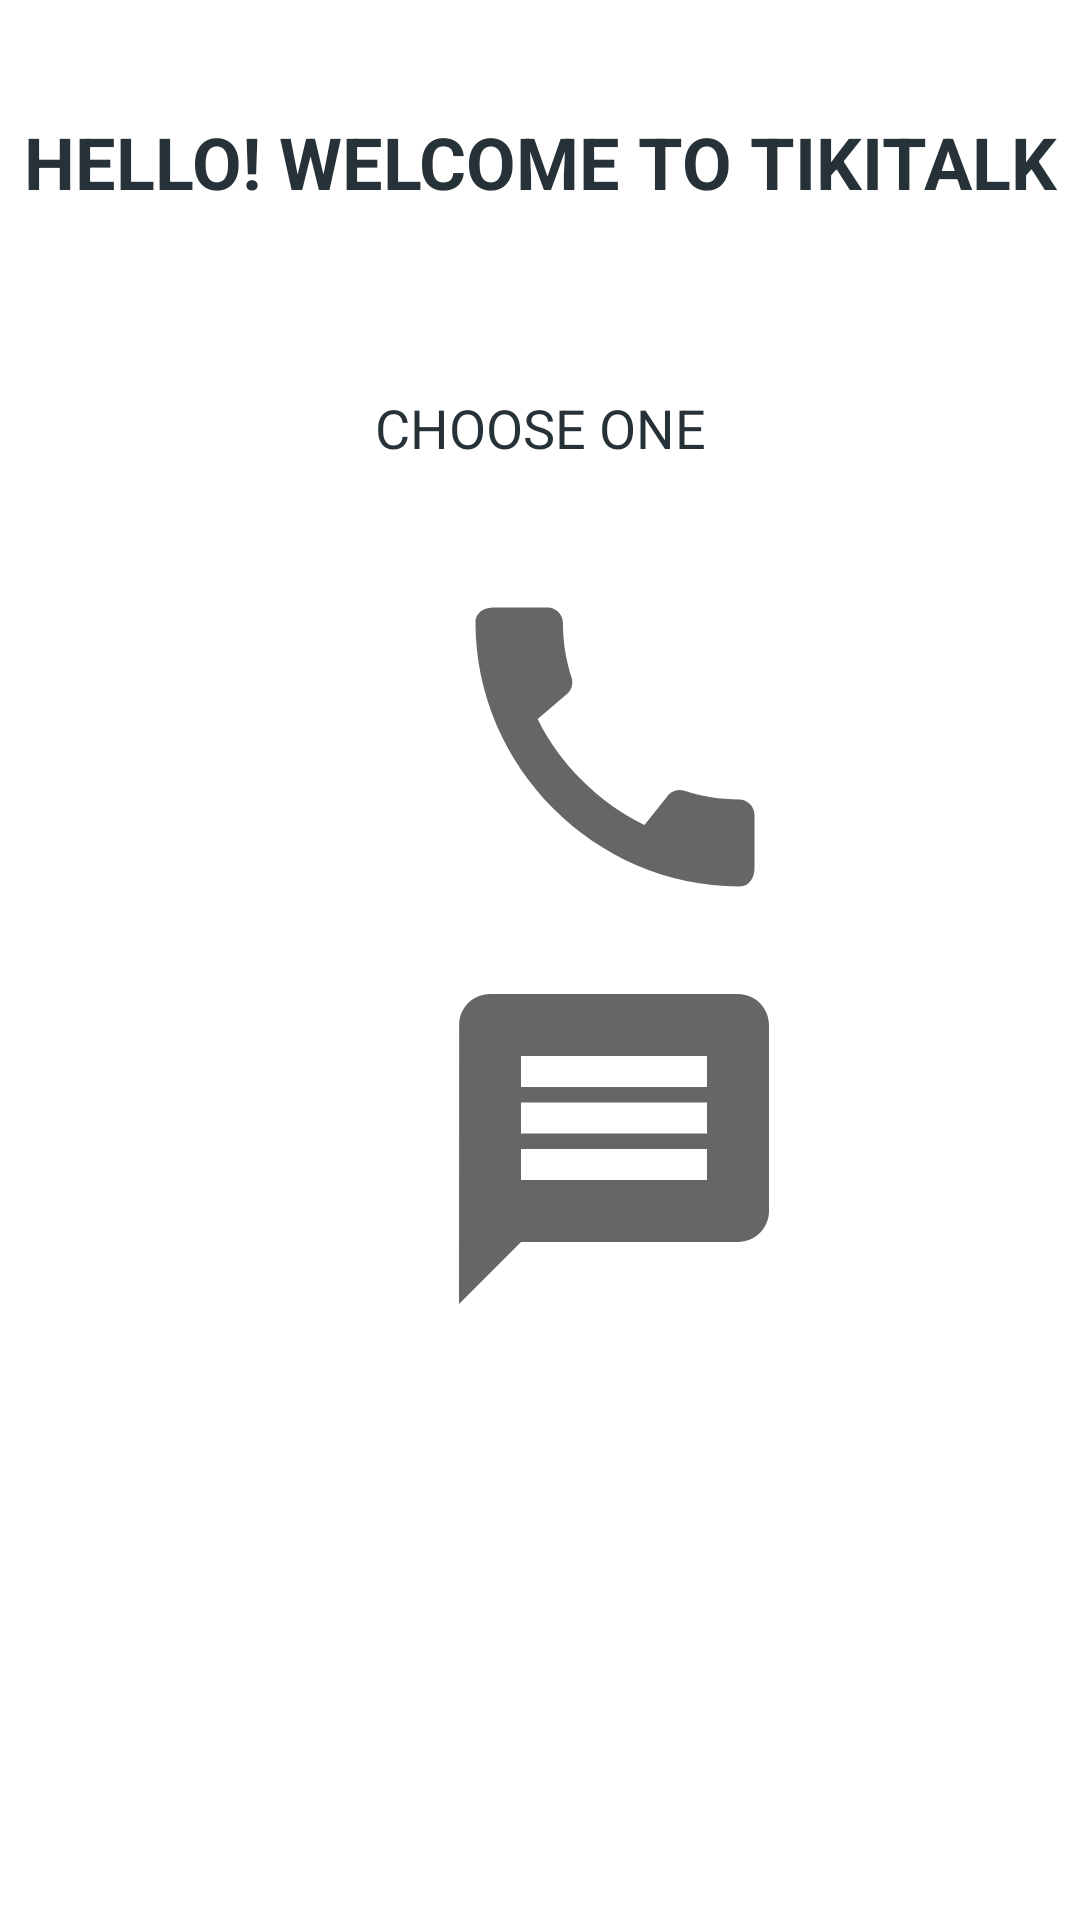

Named icons in this screenshot (1080×1920) and their centers, (x,y):
call: (615,747)
message: (614,1149)
